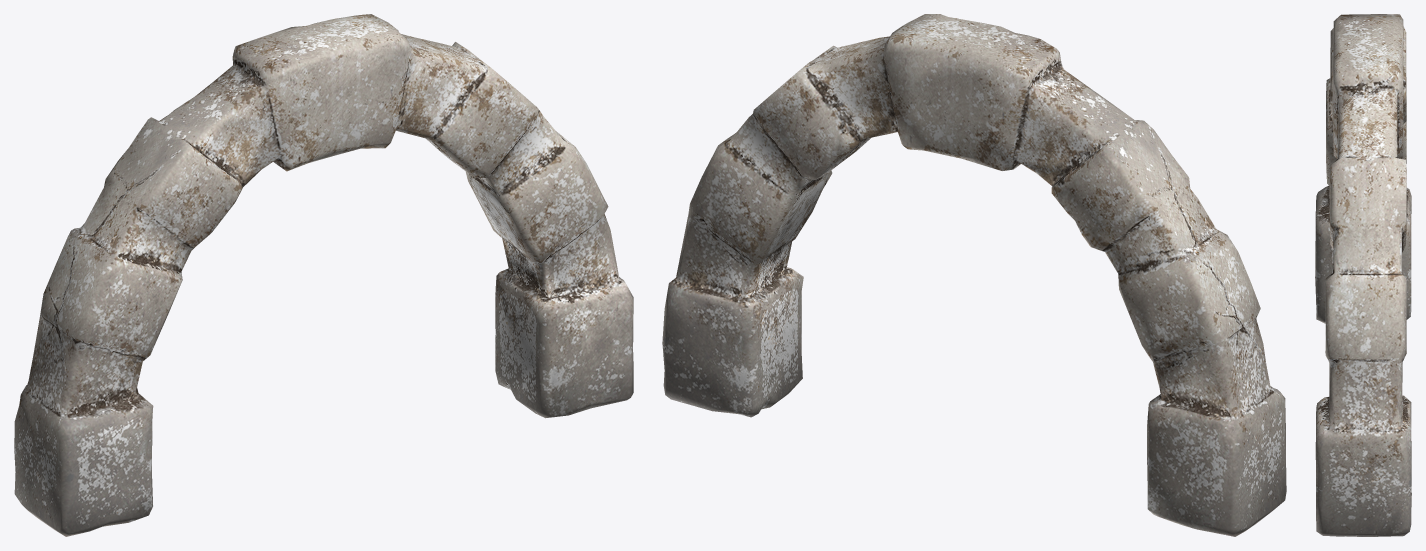
Rendered from archway.obj.
3 views of the same model, side by side, from view 1: azimuth 30°, elevation 25°; view 2: azimuth 150°, elevation 25°; view 3: azimuth 270°, elevation 25° (orthographic). The views are drawn at different scales.
Parts seen in each view (by area): view 1: archway_3; view 2: archway_3; view 3: archway_3.
Boxes of the visible parts, x1=… form: archway_3: x1=14, y1=14, x2=633, y2=536; archway_3: x1=662, y1=14, x2=1286, y2=536; archway_3: x1=1315, y1=14, x2=1411, y2=536.
Size of the model in its own units: 445 by 309 by 71.99.
Materials: 1 (1 with a texture image).
